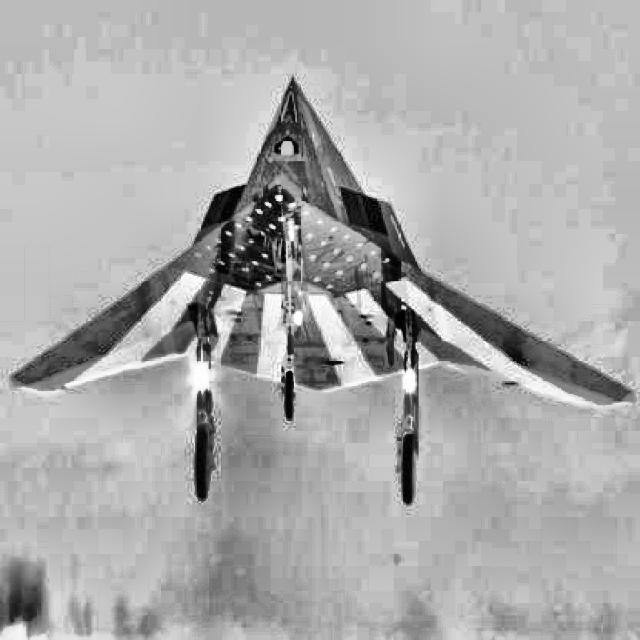F117: (9, 73, 636, 504)
